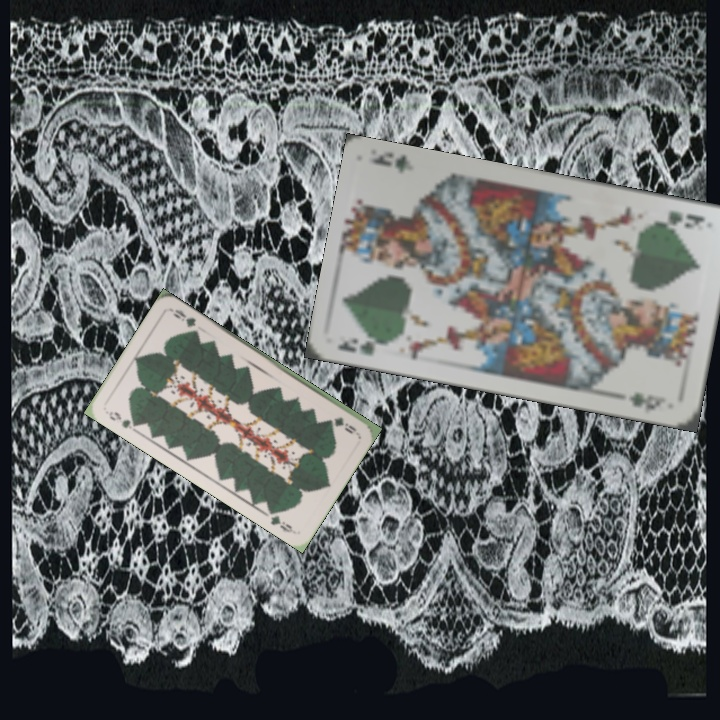G9: (104, 407, 141, 434), (330, 413, 359, 436)
GK: (333, 333, 392, 359), (663, 206, 708, 231)
